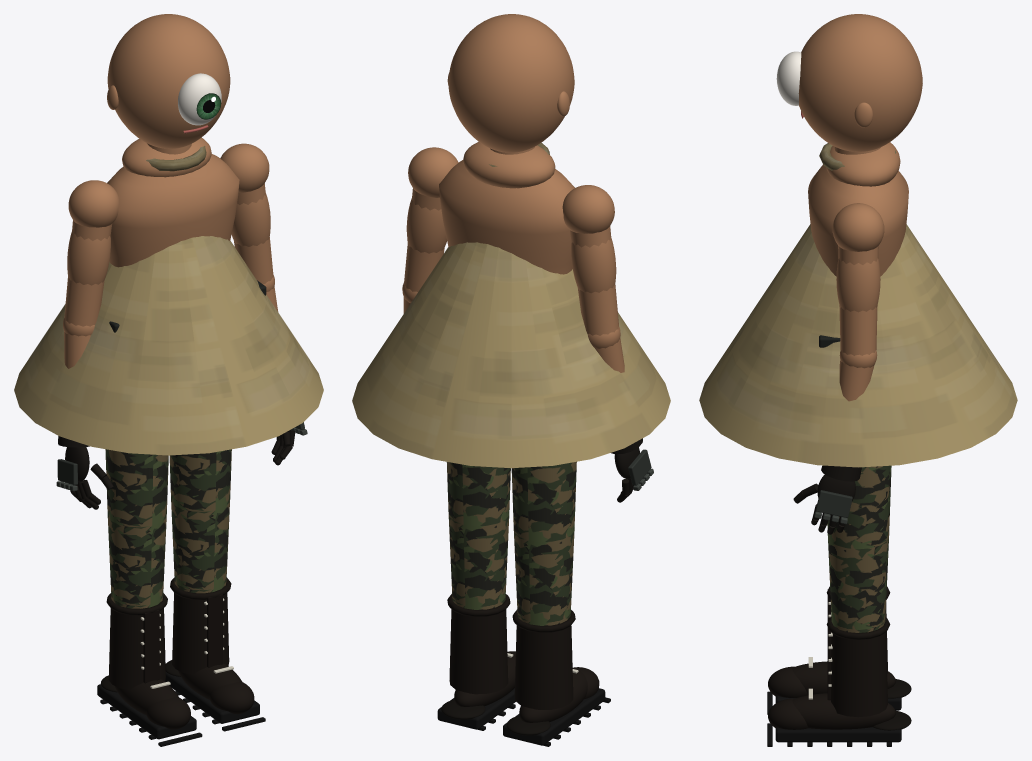
File: 07-mutant-cyclope.glb
3 renders of one model, left to right at view 1: azimuth 30°, elevation 25°; view 2: azimuth 150°, elevation 25°; view 3: azimuth 270°, elevation 25°, orthographic. The views are drawn at different scales.
Size of what is drawn, in the model's own units: 0.72 by 1.75 by 0.72.
24 materials, 6 textured.
